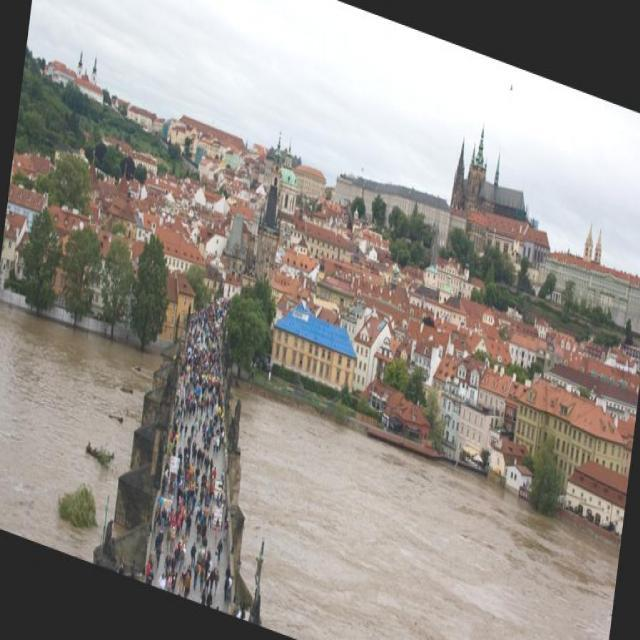flood: (209, 359, 622, 639), (0, 260, 155, 575)
